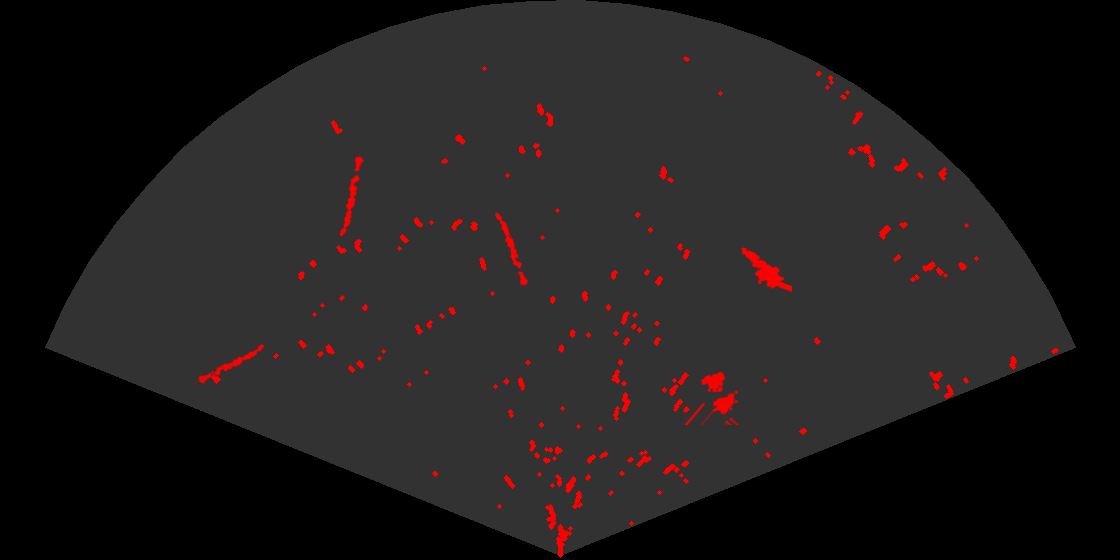cage: (685, 370, 741, 425)
chain: (193, 342, 267, 386), (493, 210, 530, 289), (338, 154, 366, 239)
frogman: (729, 244, 792, 294)
